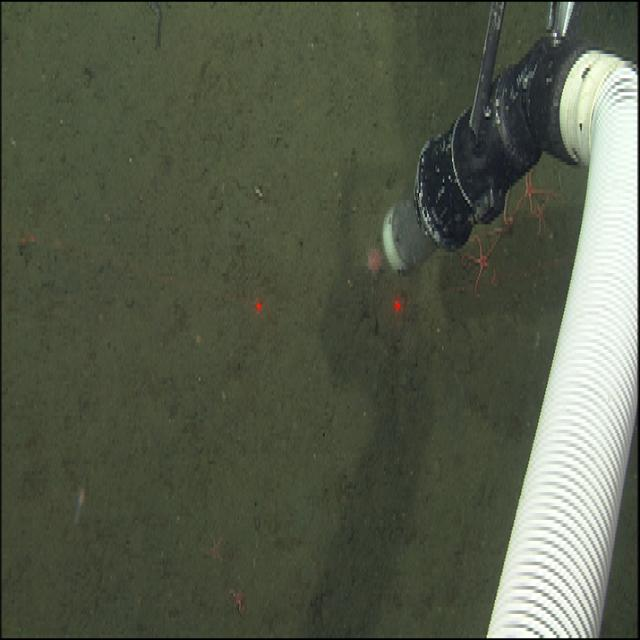Brittle Star: (469, 235, 506, 302)
